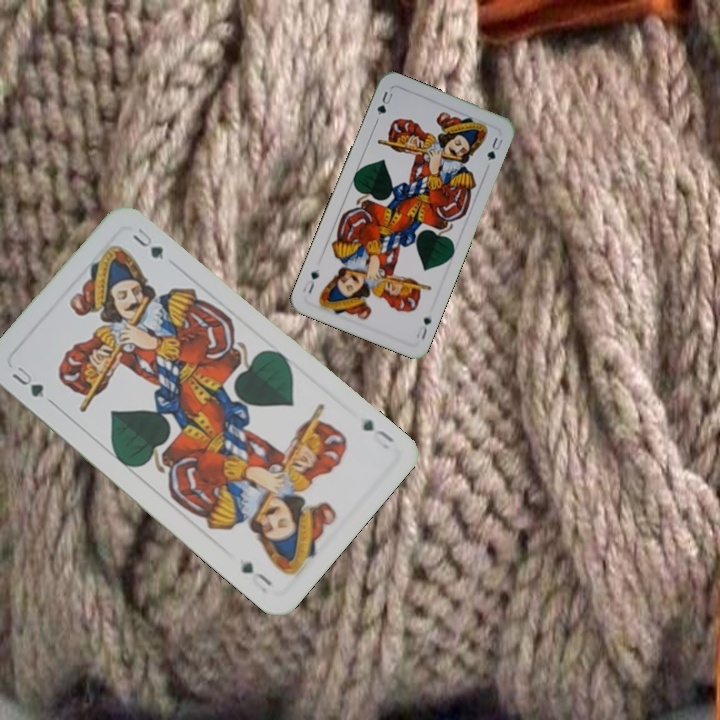GU: (7, 360, 47, 401), (358, 415, 397, 446), (372, 87, 396, 124), (417, 313, 434, 342)
